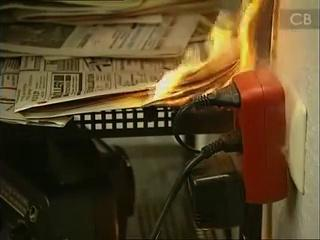Fire: (153, 0, 274, 104)
